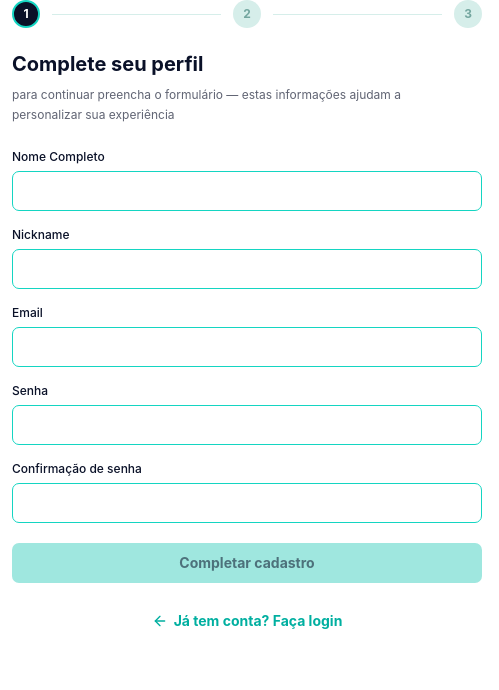
Test: RegisterStudentForm › valida email e nickname ao tentar avancar o primeiro passo
Type "Jose Bezerra Camargo" into the field labelled "Nome Completo" at x=247, y=191, box [12,171,482,211]
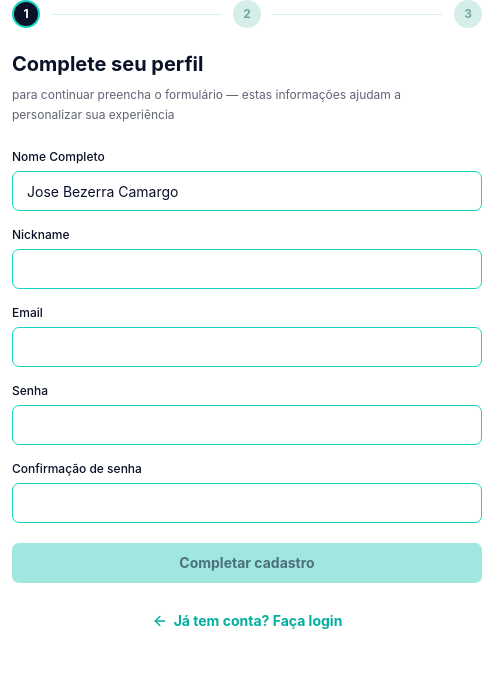
Type "behhhhh" into the field labelled "Nickname" at x=247, y=269, box [12,249,482,289]
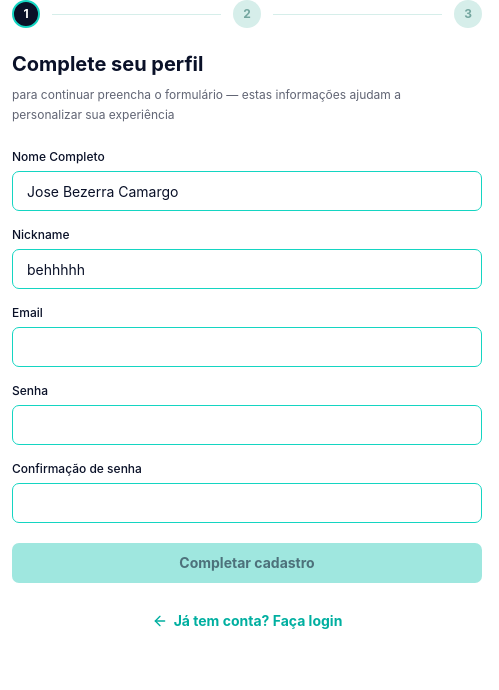
Type "bezerra@email.com" into the field labelled "Email" at x=247, y=347, box [12,327,482,367]
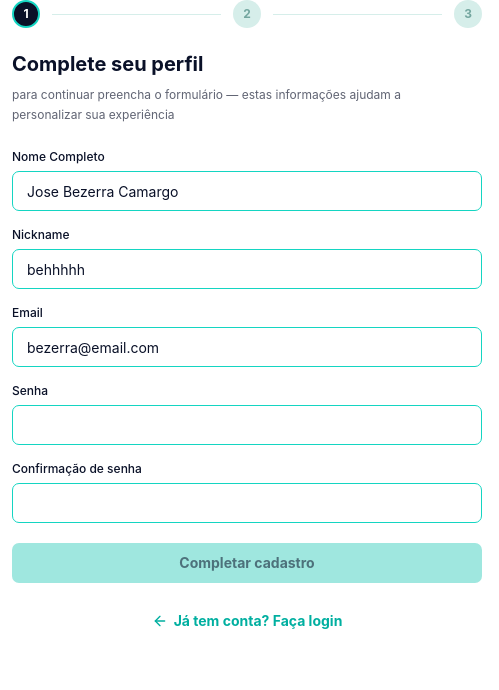
Type "password123" into the password field labelled "Senha" at x=247, y=425, box [12,405,482,445]
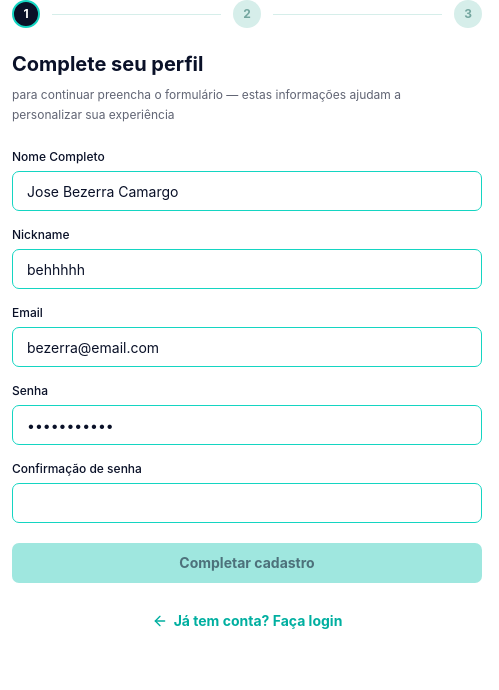
Type "password123" into the password field labelled "Confirmação de senha" at x=247, y=503, box [12,483,482,523]
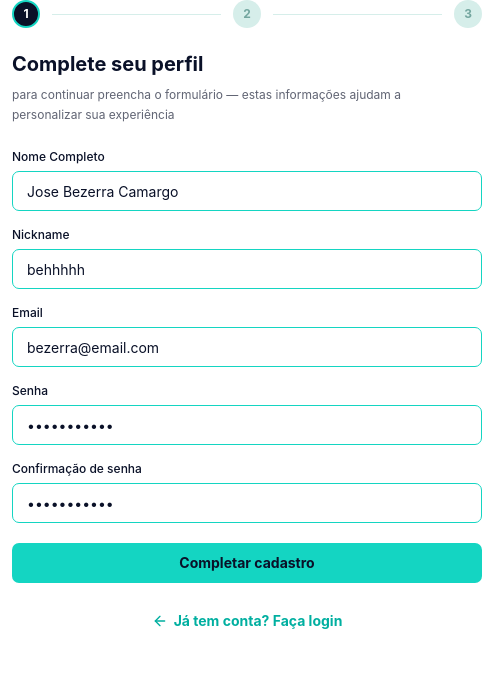
Click the button "Completar cadastro" at x=247, y=563, box [12,543,482,583]
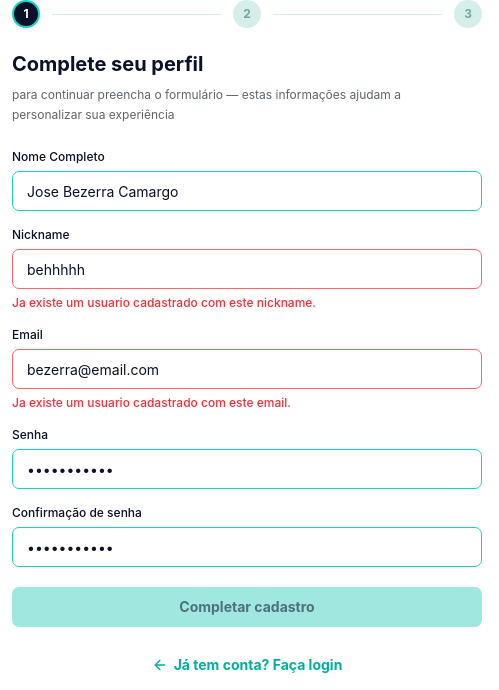
Expected: the text "Ja existe um usuario cadastrado com este email." is shown, [12,395,291,410]
Expected: the text "Ja existe um usuario cadastrado com este nickname." is shown, [12,295,316,310]
